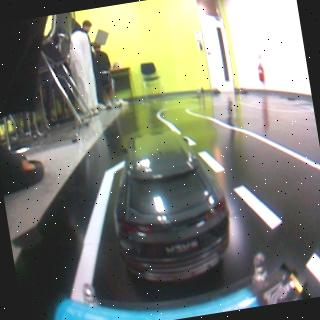car: (104, 120, 242, 288)
